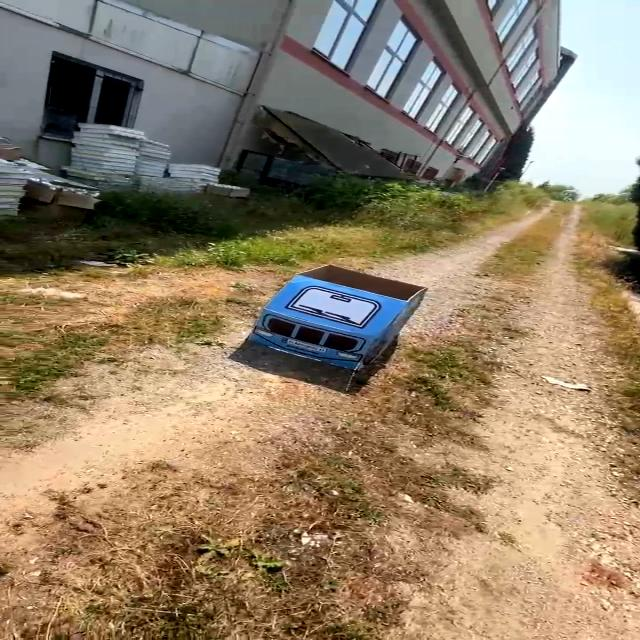blue_car: (215, 248, 439, 390)
